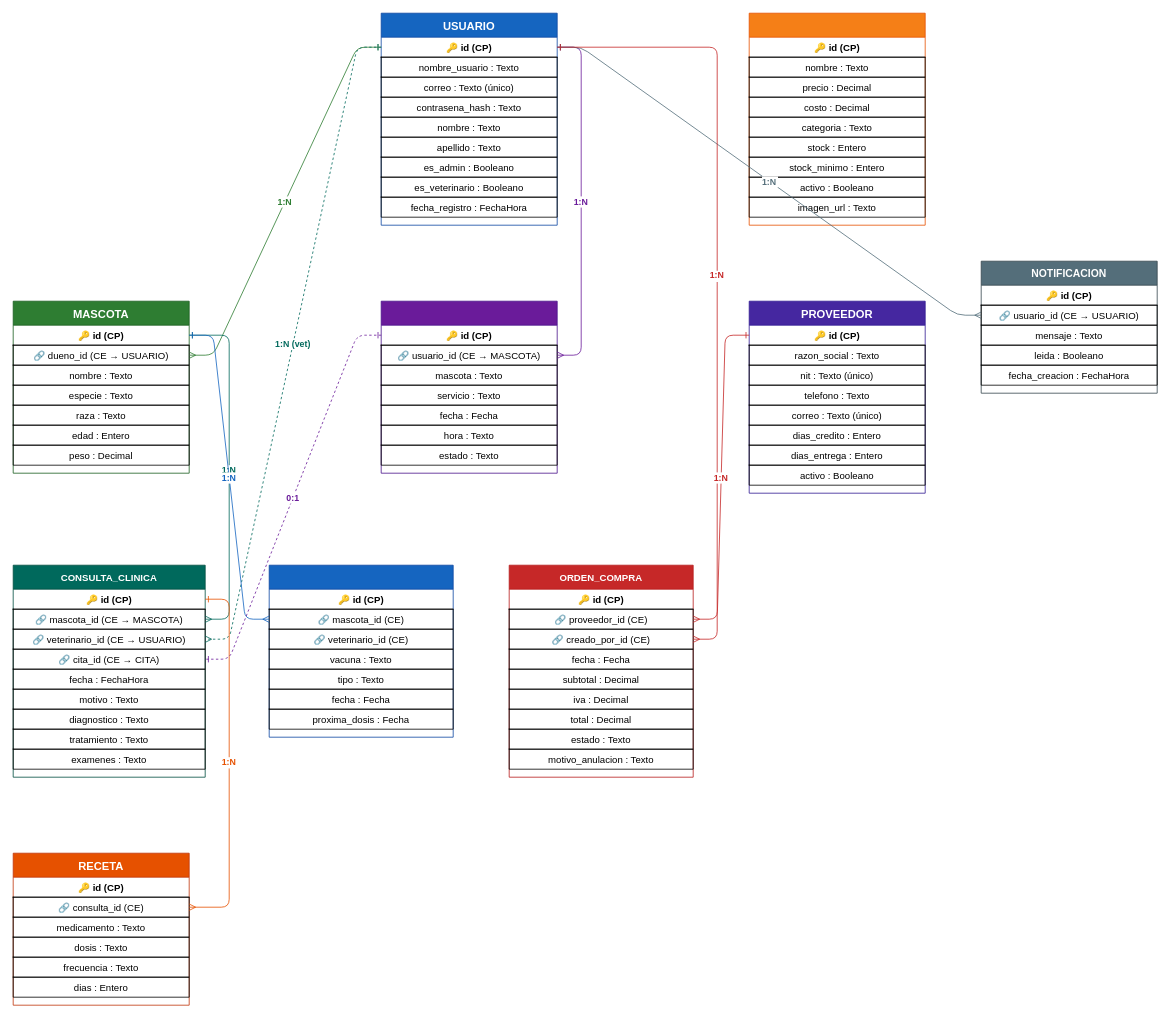
Image size: 1170x1018. Some labels were removed from this diagram. The box of each missing label's shape, as (x1, y1, x2, y2) in pixels:
CITA: (380, 300, 557, 473)
PRODUCTO: (748, 12, 925, 225)
VACUNACION: (268, 564, 453, 737)
